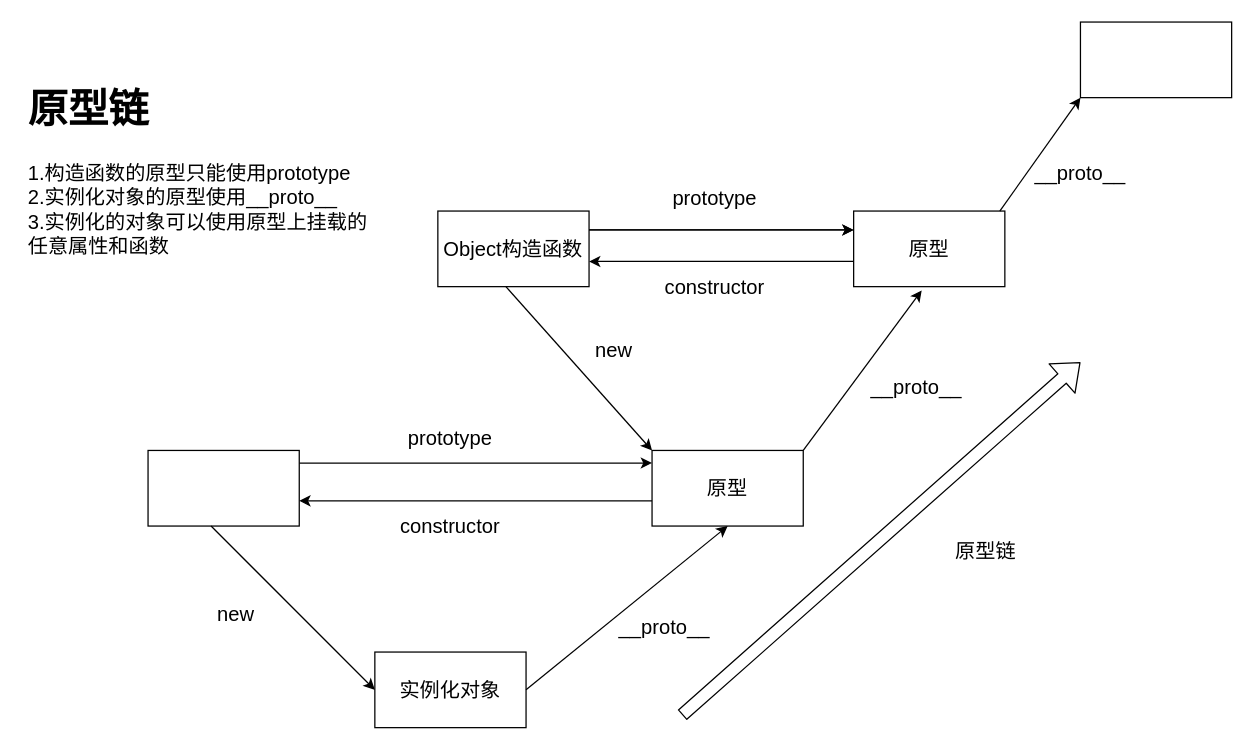
The diagram is 1254 pixels wide and 750 high, and some of its shapes have lost their labels. The shapes that lost their labels are listed below. From the top down, each one's centre as x and y in pixels, then its label:
point (1155, 59): 原型（null）
point (223, 487): 构造函数
